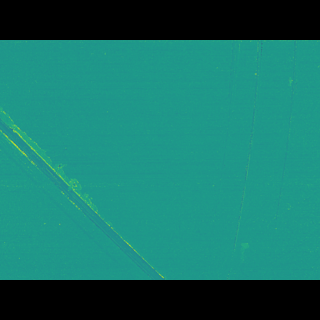Loch: (0, 117, 171, 251), (202, 70, 247, 230), (227, 69, 265, 227), (270, 69, 302, 220)
